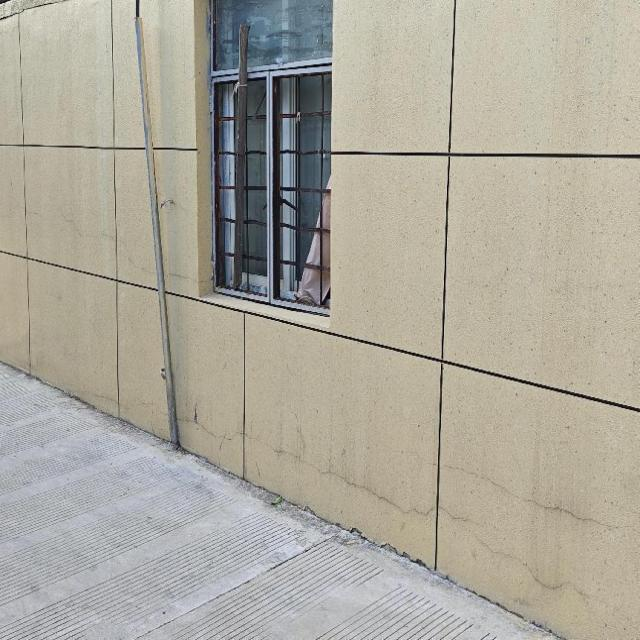crack: (176, 398, 630, 620), (398, 441, 636, 545), (77, 383, 169, 425), (164, 264, 213, 287)
